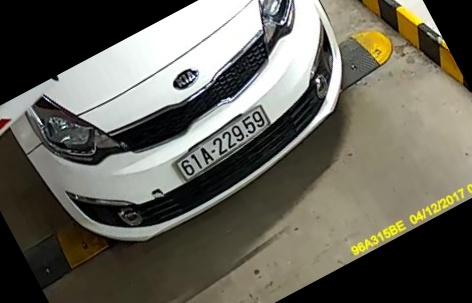plate: (171, 106, 266, 182)
